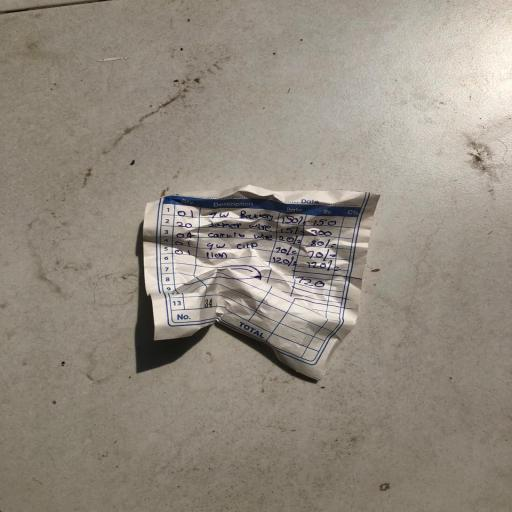waste: (108, 176, 397, 397)
